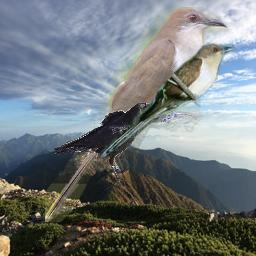Crow: (53, 102, 160, 185)
Cuckoo: (45, 7, 229, 222), (96, 42, 238, 163)
